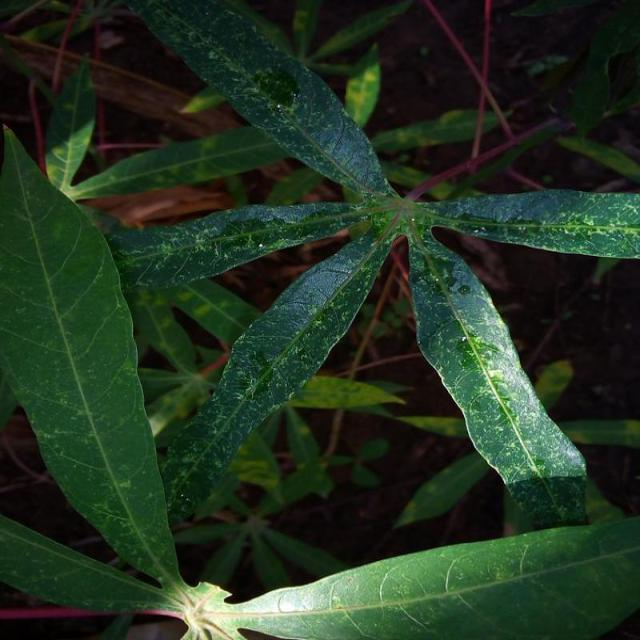cassava leaf: (1, 0, 638, 634), (0, 122, 184, 593), (406, 222, 587, 528)
